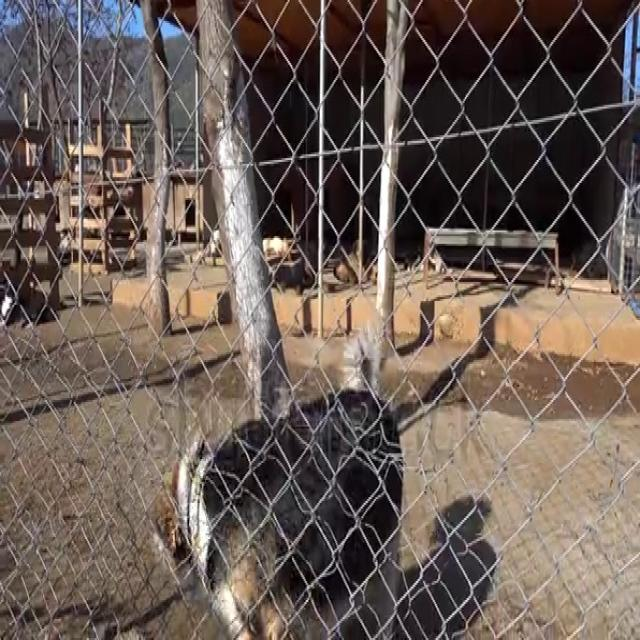normal_animals: (149, 344, 420, 640)
